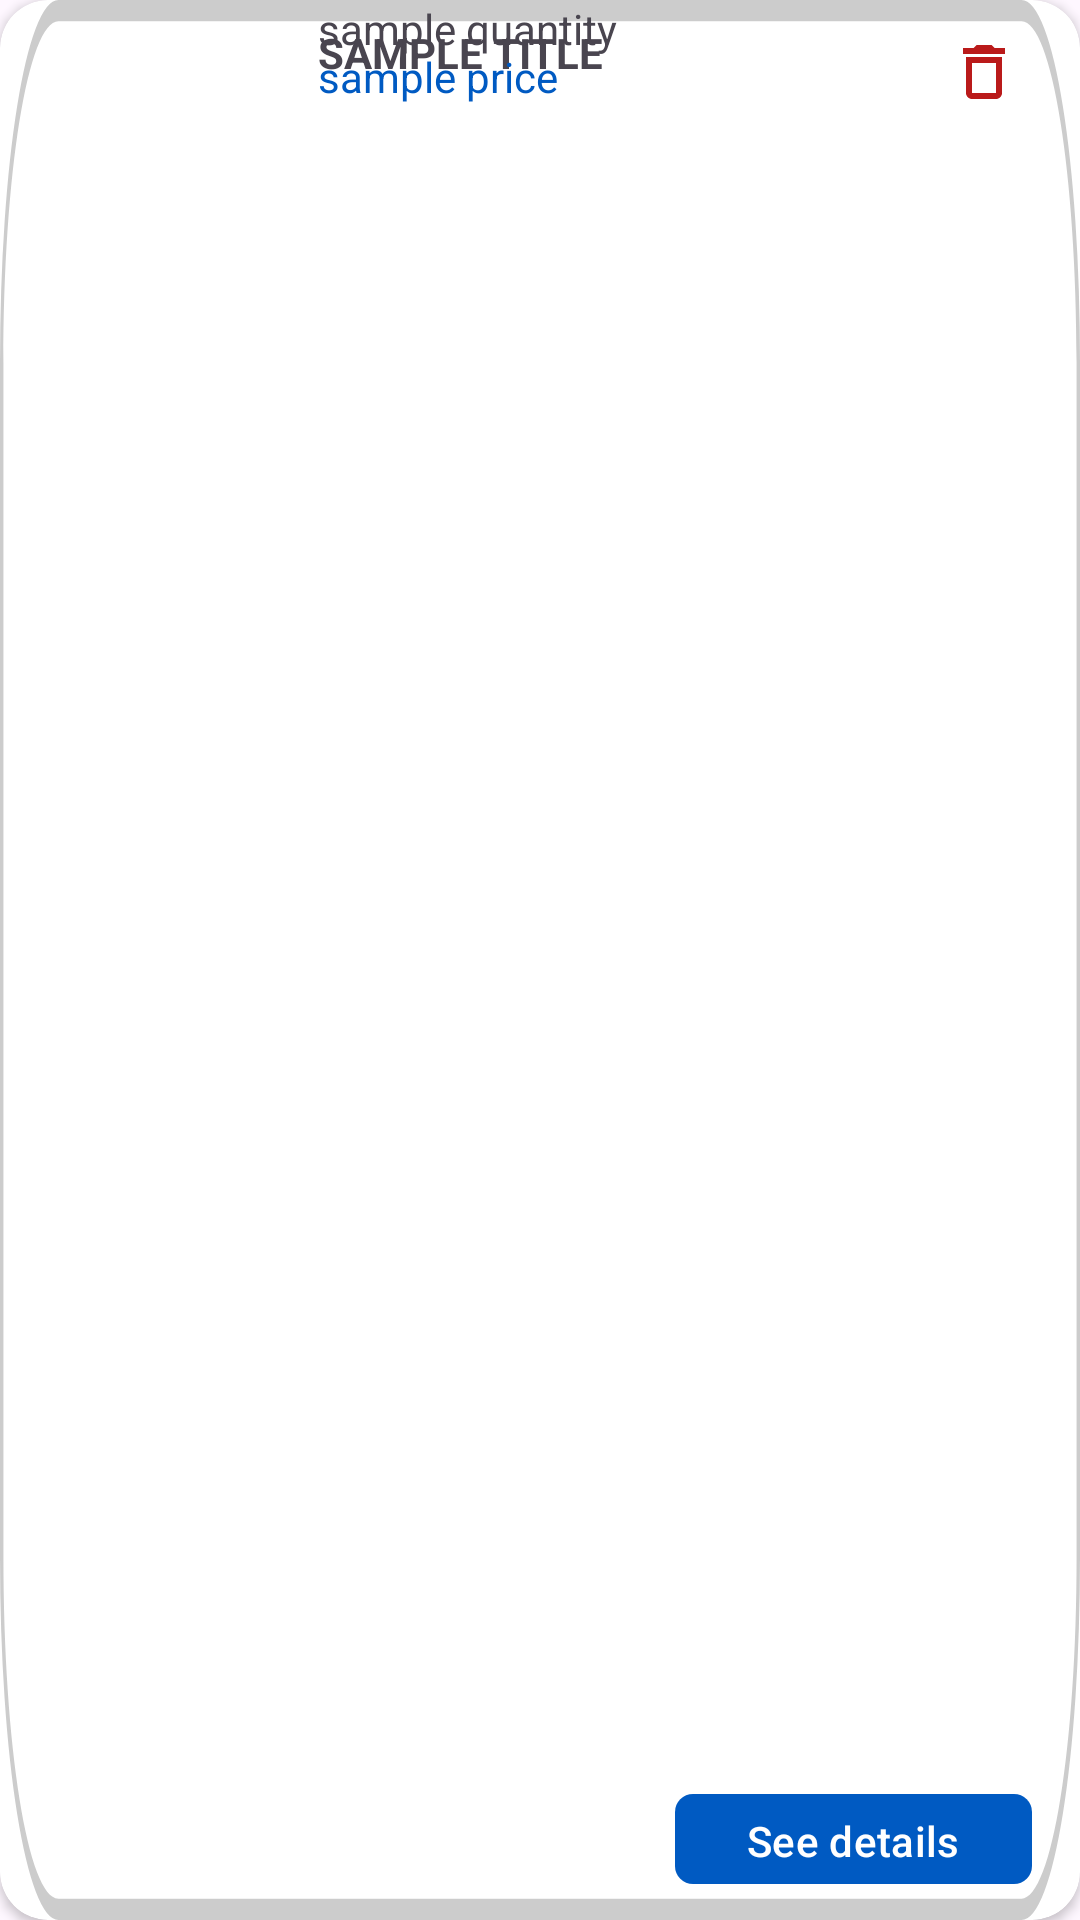

Screen size 1080px×1920px. Icon name, then its center in pixels as (x=x, y=y):
delete: (x=984, y=72)
